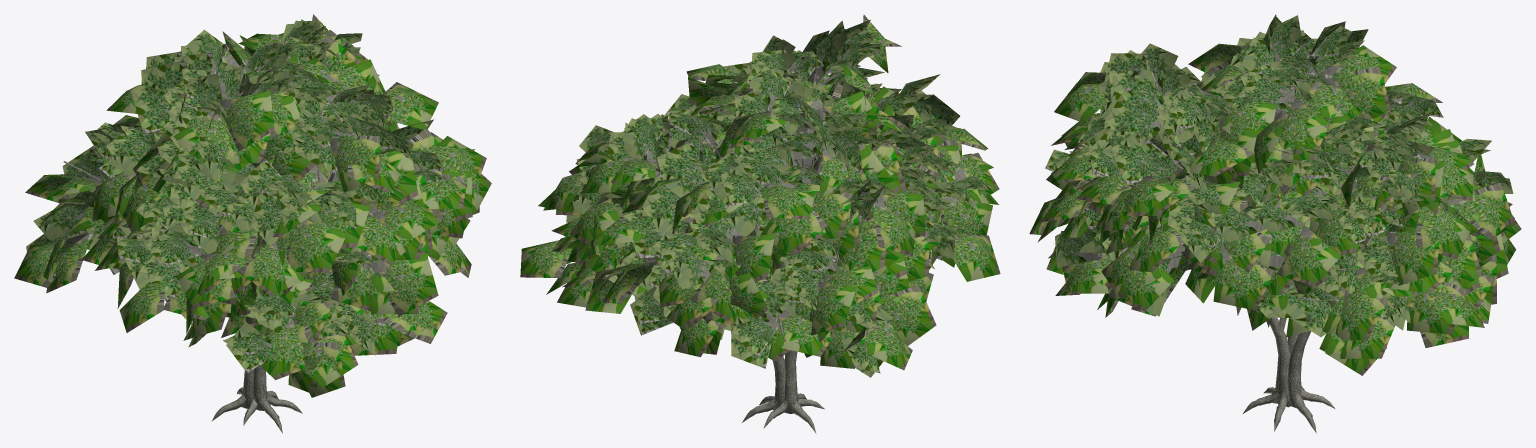
File: Tree_03.fbx
The picture shows the model from 3 angles, left to right: view 1: azimuth 30°, elevation 25°; view 2: azimuth 150°, elevation 25°; view 3: azimuth 270°, elevation 25°; orthographic projection. The views are drawn at different scales.
Parts seen in each view (by area): view 1: LOD0; view 2: LOD0; view 3: LOD0.
Part boxes in pixels (x1,y1,x2,y2): LOD0: [14, 14, 491, 433]; LOD0: [520, 14, 1000, 433]; LOD0: [1029, 14, 1521, 433].
Size of the model in its own units: 1240 by 1135 by 1354.
